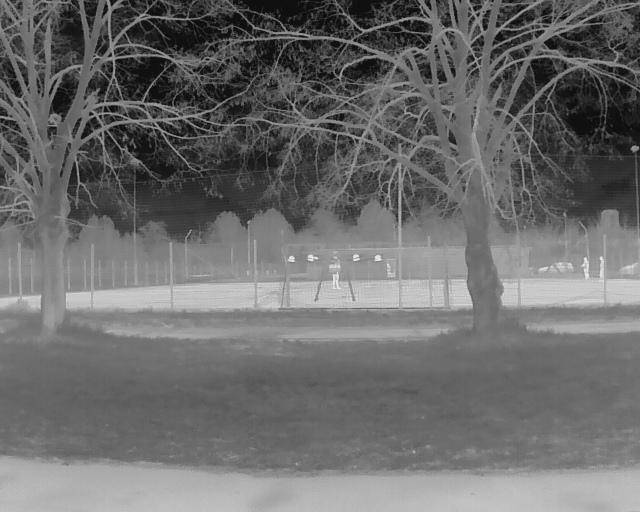drone: (280, 244, 396, 307)
